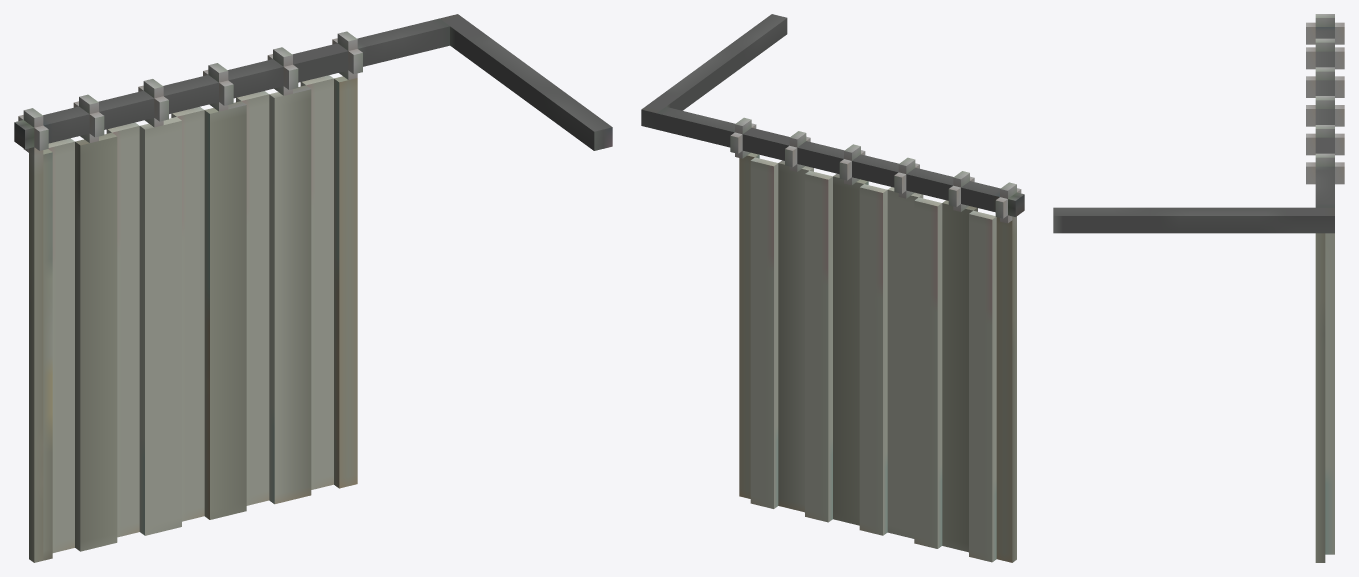
File: CurtainBathroom_00.fbx
The picture shows the model from 3 angles, left to right: view 1: azimuth 30°, elevation 25°; view 2: azimuth 150°, elevation 25°; view 3: azimuth 270°, elevation 25°; orthographic projection. The views are drawn at different scales.
Parts seen in each view (by area): view 1: CurtainBathroom_00; view 2: CurtainBathroom_00; view 3: CurtainBathroom_00.
Boxes of the visible parts, x1=… form: CurtainBathroom_00: x1=14, y1=14, x2=612, y2=562; CurtainBathroom_00: x1=641, y1=14, x2=1024, y2=562; CurtainBathroom_00: x1=1053, y1=14, x2=1344, y2=562.
Bounding box in the file's own units: 240 × 150 × 230.
Materials: 1 (1 with a texture image).
